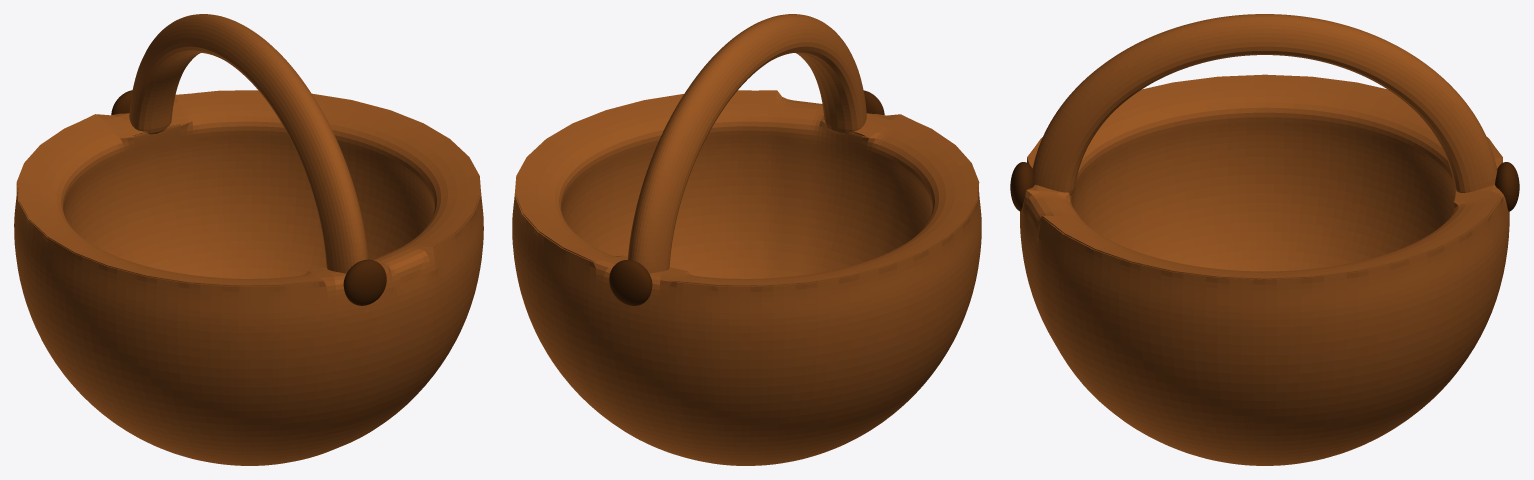
File: Basket.fbx
3 views of the same model, side by side, from view 1: azimuth 30°, elevation 25°; view 2: azimuth 150°, elevation 25°; view 3: azimuth 270°, elevation 25° (orthographic). The views are drawn at different scales.
Parts seen in each view (by area): view 1: Torus; view 2: Torus; view 3: Torus.
Boxes of the visible parts, x1,y1,x2,y2 form: Torus: (14, 14, 483, 465); Torus: (512, 14, 981, 465); Torus: (1010, 14, 1519, 465).
Size of the model in its own units: 198 by 191 by 207.
